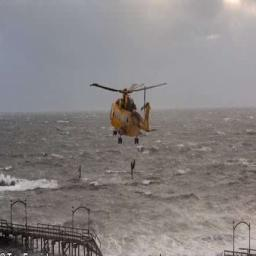helicopter: (90, 67, 167, 153)
